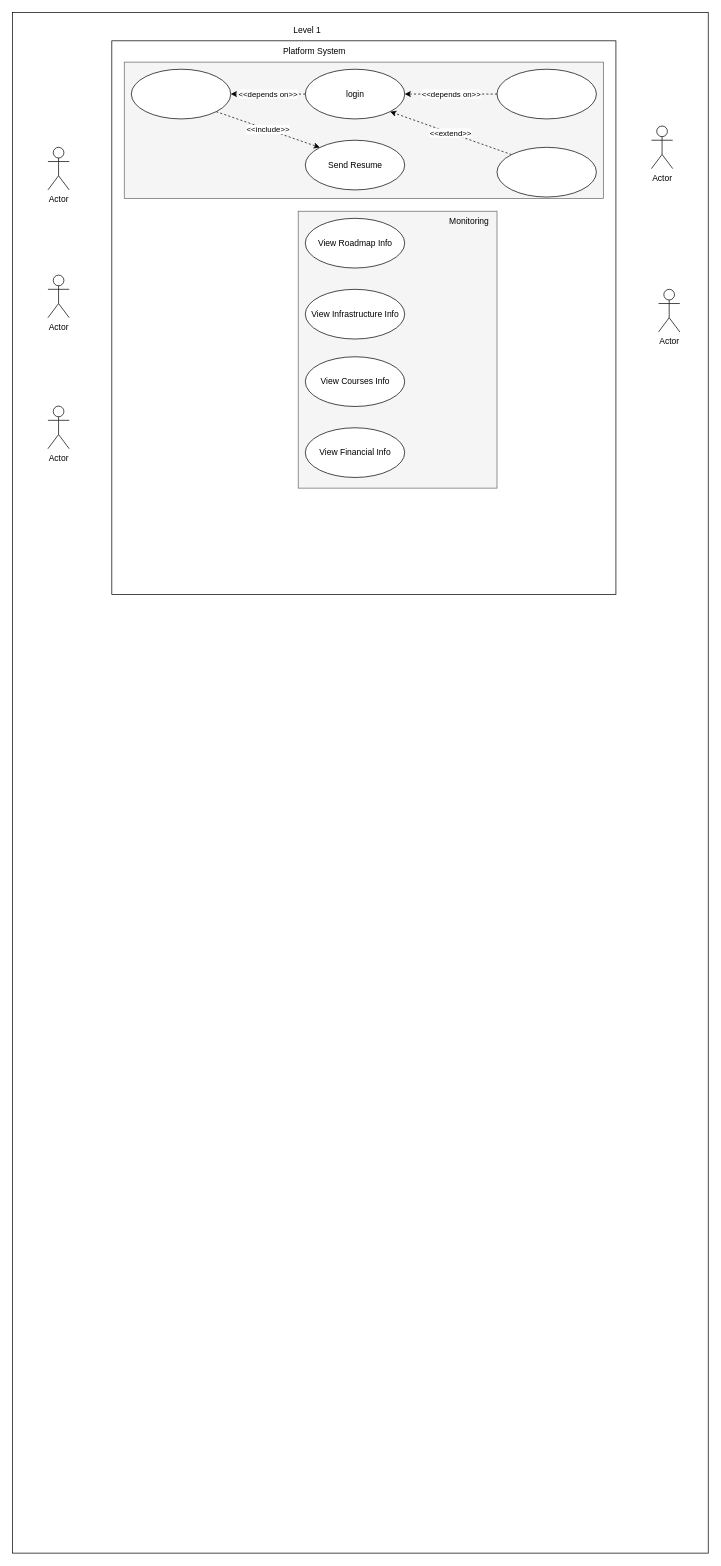
The diagram is 721 pixels wide and 1566 high, and some of its shapes have lost their labels. Each missing label, with the centre of its shape:
"logout" belongs at [546,172].
"Manage Profile" belongs at [546,94].
"Register with Platform" belongs at [181,94].
